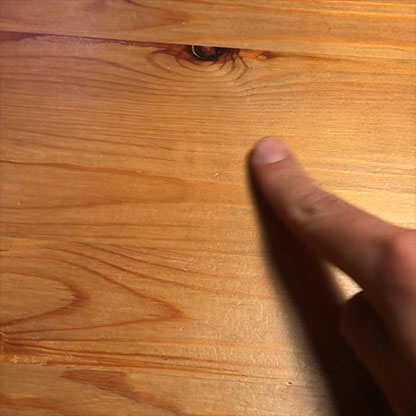fingertip: (248, 127, 301, 171)
